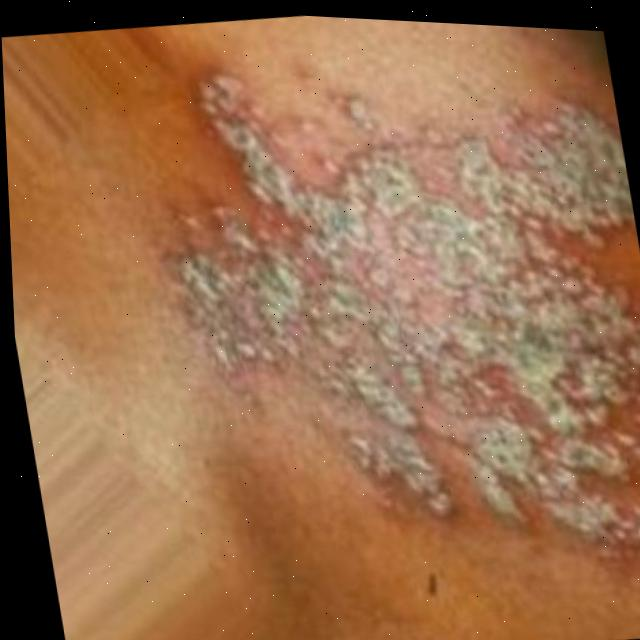Shingles: (131, 14, 640, 614)
